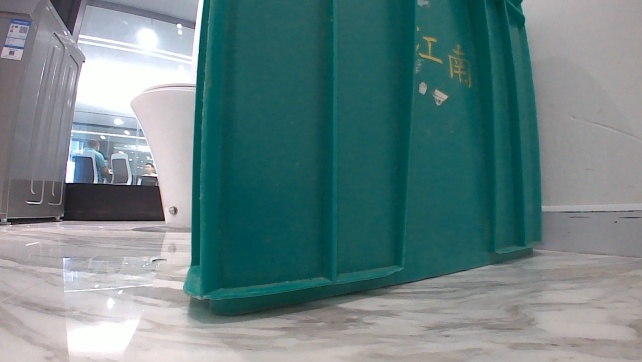toilet: (127, 78, 197, 230)
